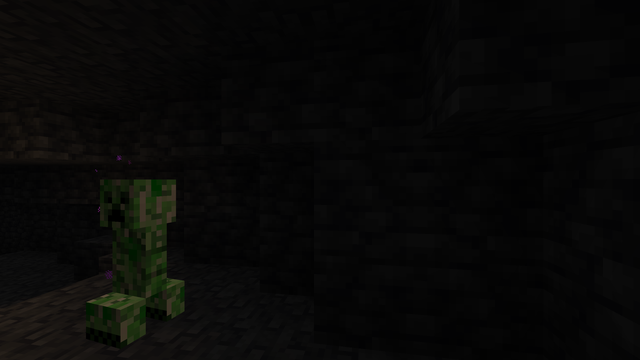creepers: (89, 171, 181, 342)
